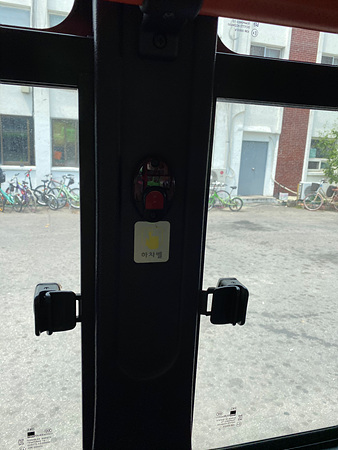bell: (134, 150, 178, 218)
